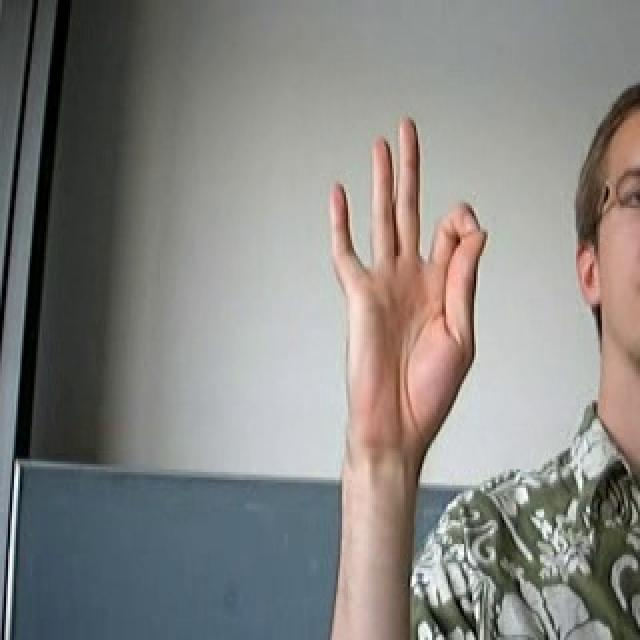F: (301, 87, 500, 468)
